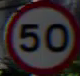Speed limit: (4, 5, 74, 65)
